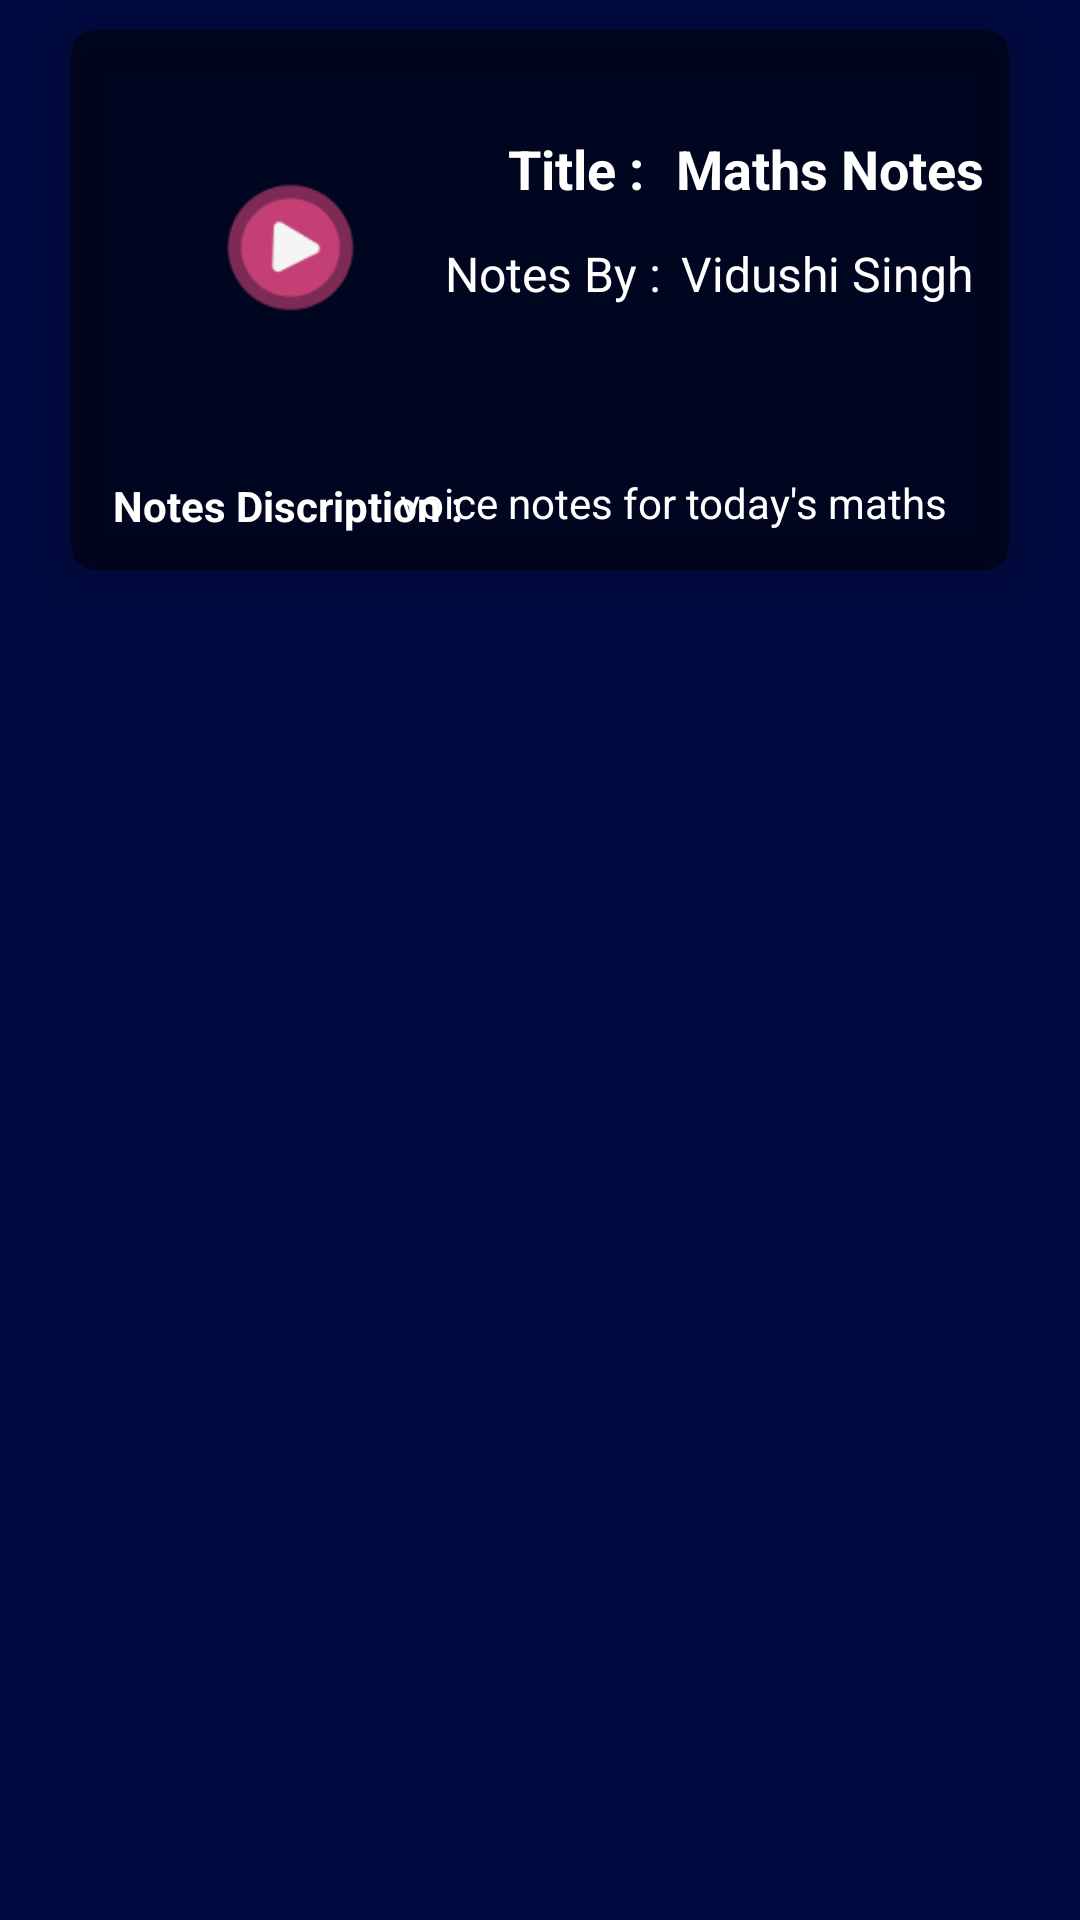

Icons on this 1080x1920 Android screen, each with its box as {"left": x1, "top": y1, "right": x2, "bottom": y2}:
play: {"left": 227, "top": 184, "right": 354, "bottom": 311}
